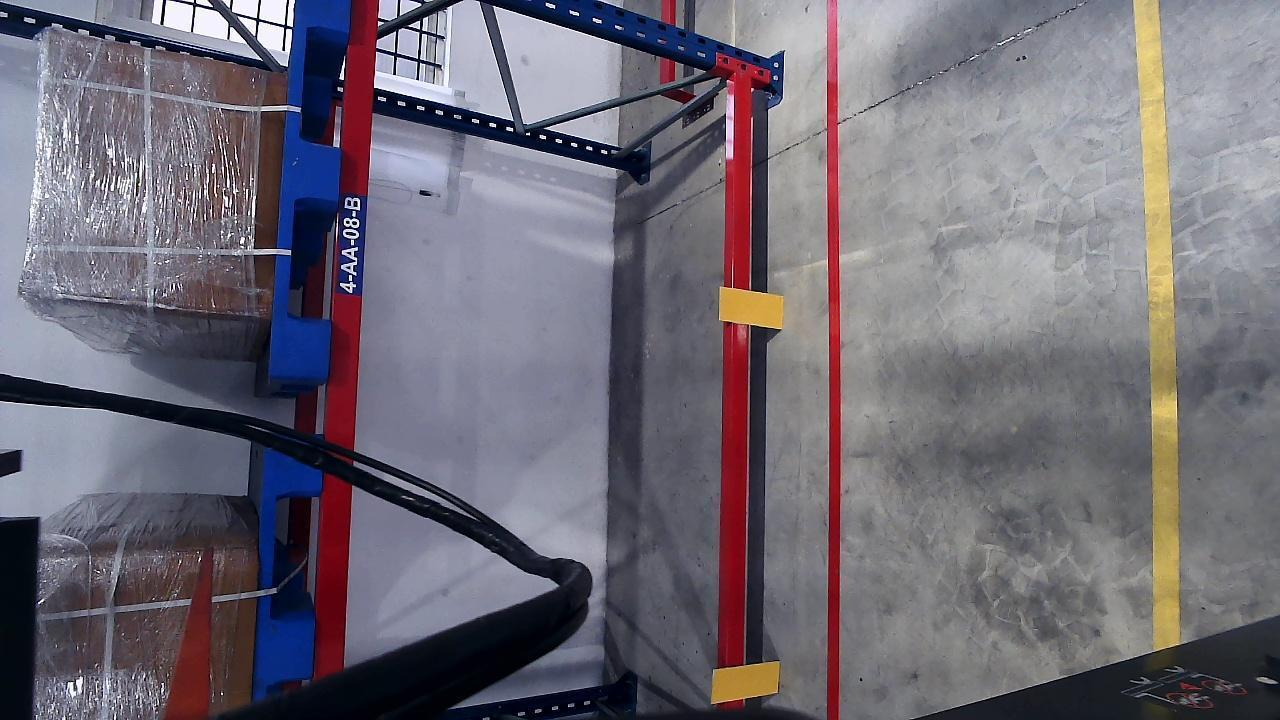red_line: (821, 0, 846, 720)
yellow_line: (1135, 0, 1181, 618)
